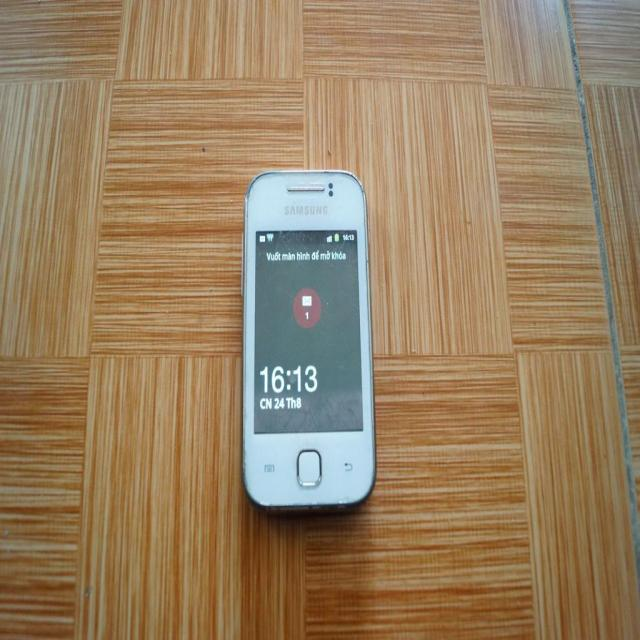Phone: (242, 169, 376, 516)
